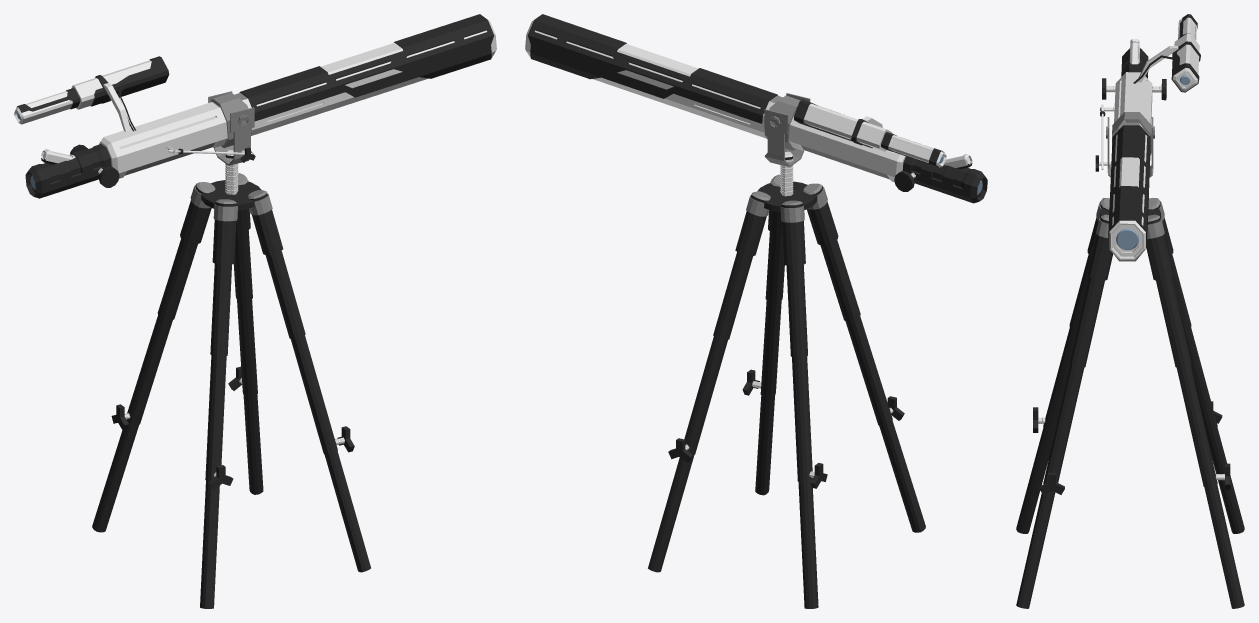
File: Telescope.fbx
3 renders of one model, left to right at view 1: azimuth 30°, elevation 25°; view 2: azimuth 150°, elevation 25°; view 3: azimuth 270°, elevation 25°, orthographic.
Visible parts, largest first — view 1: Lower_Part, Main_Part, Middle_Part; view 2: Lower_Part, Main_Part, Middle_Part; view 3: Lower_Part, Main_Part, Middle_Part.
Boxes of the visible parts, <box> form: Lower_Part: <box>92,173,370,608</box>; Main_Part: <box>14,14,496,198</box>; Middle_Part: <box>166,91,261,210</box>; Lower_Part: <box>648,174,925,608</box>; Main_Part: <box>525,14,987,203</box>; Middle_Part: <box>757,93,817,211</box>; Lower_Part: <box>1016,198,1244,608</box>; Main_Part: <box>1102,14,1200,261</box>; Middle_Part: <box>1095,104,1160,217</box>.
Size of the model in its own units: 176 by 179 by 76.6.
